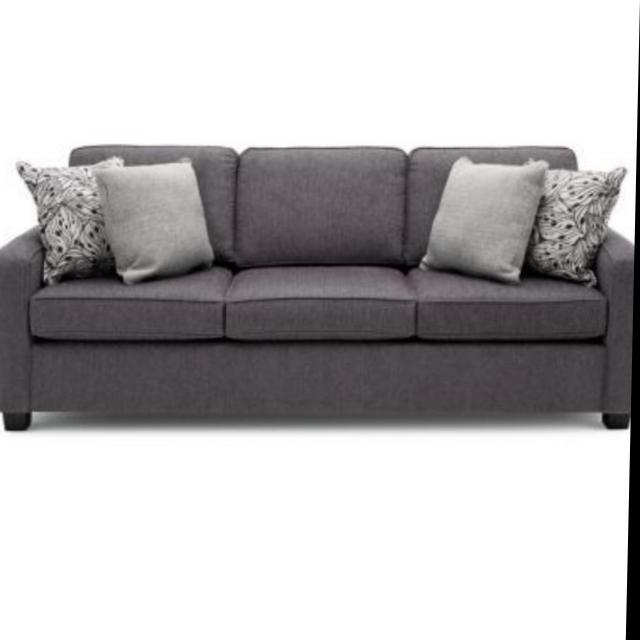Sofa: (0, 144, 637, 433)
